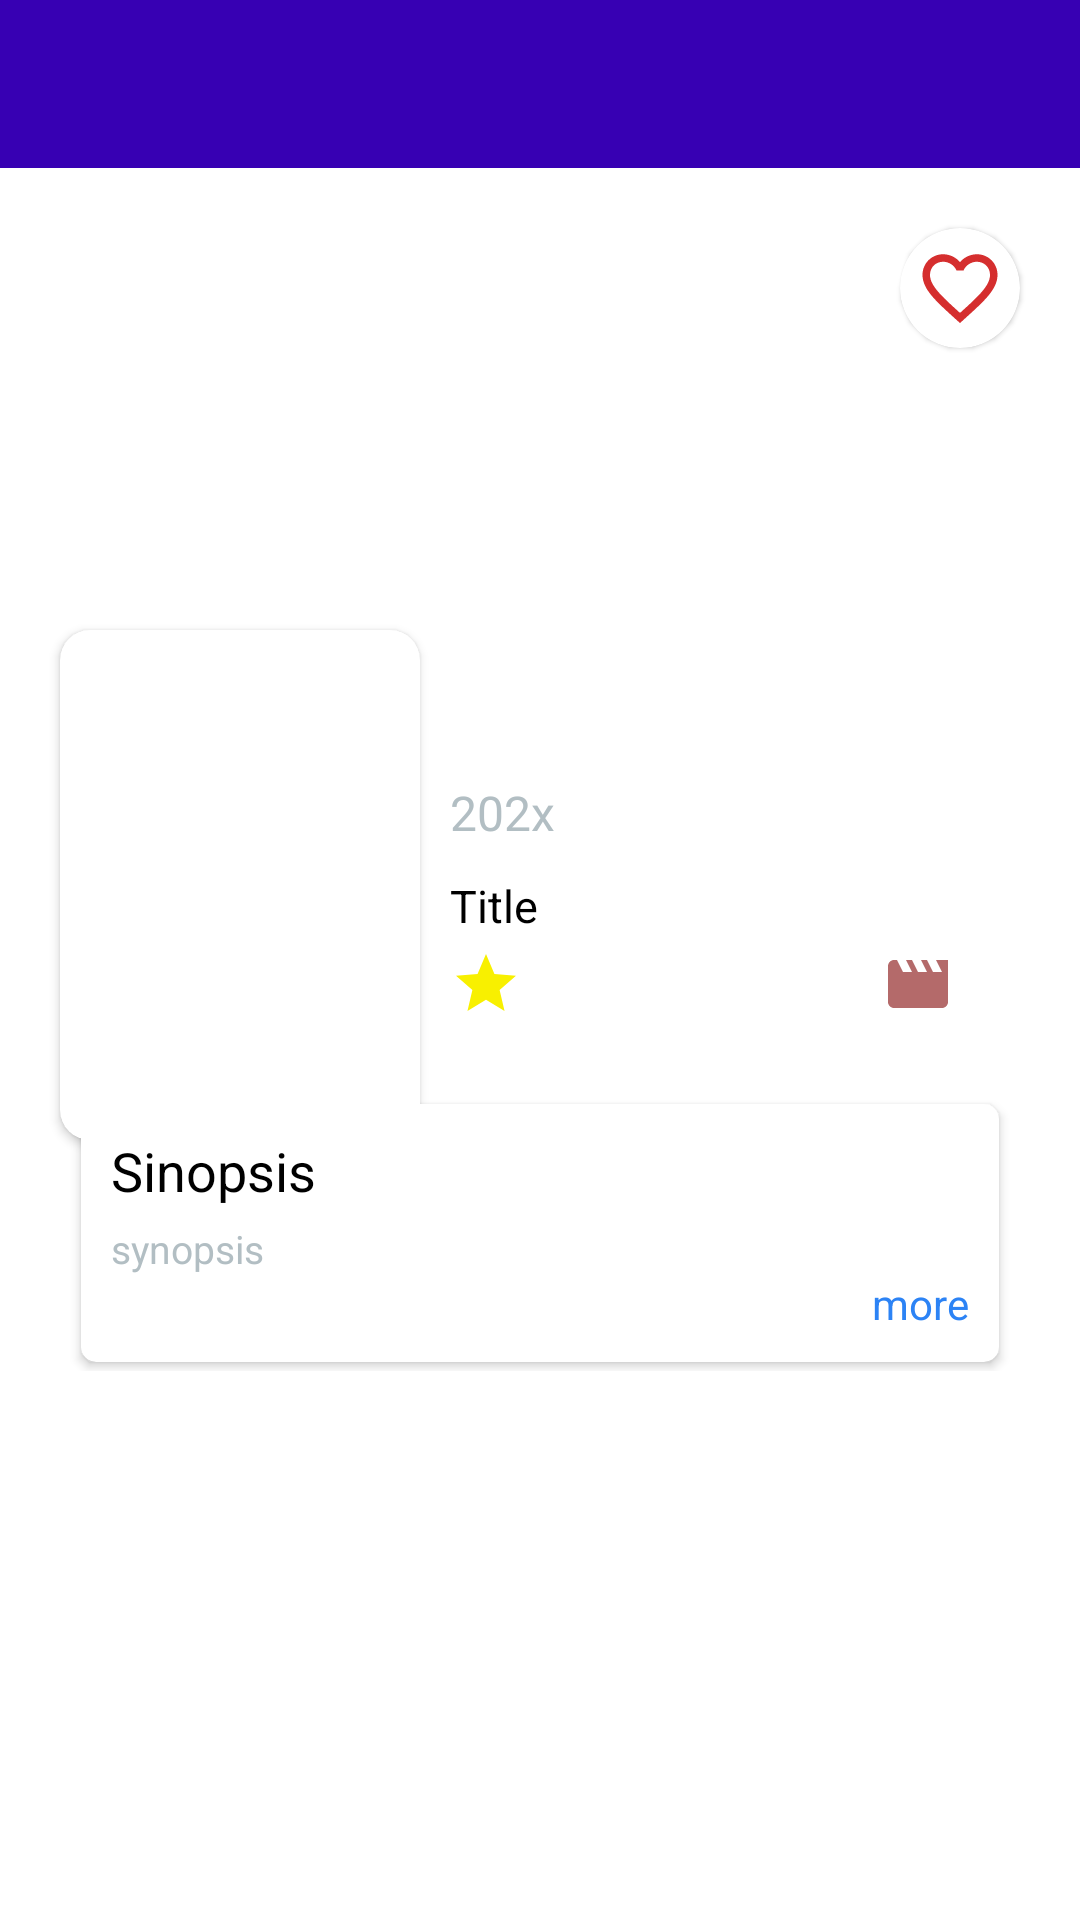

Named icons in this screenshot (1080 × 1920) and their centers, (x,y):
favorite border: (960,288)
movie: (918,984)
star: (486,982)
